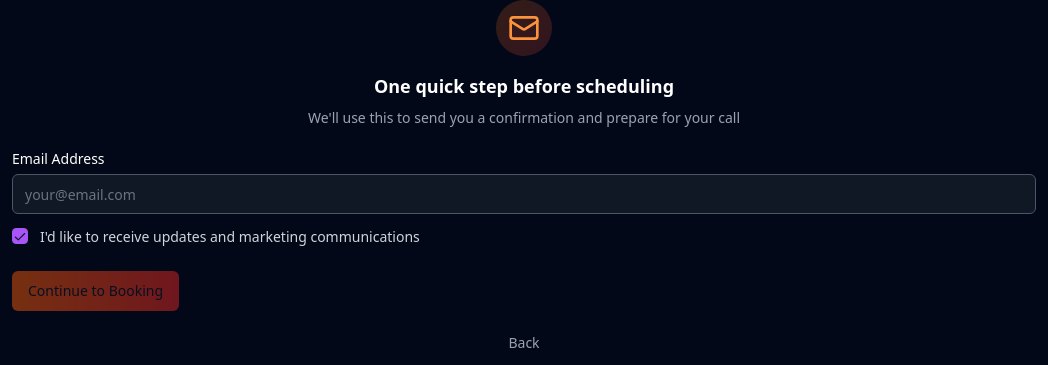
Scenario: Adventure Game Forms › Ignition Path Forms › SessionEmailForm › validates email format
// Test with valid email
Type "test@example.com" into the field labelled "Email Address" at (524, 194), box [12,174,1036,214]
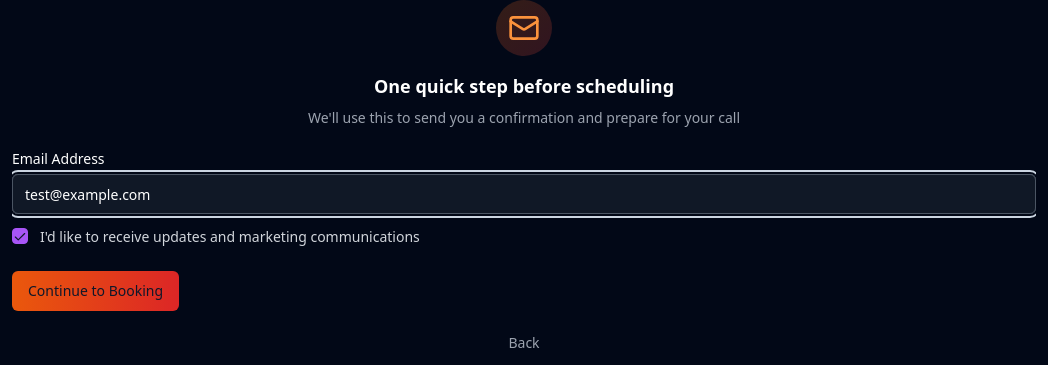
Expected: the button "Continue to Booking" is enabled, [12,271,179,311]
